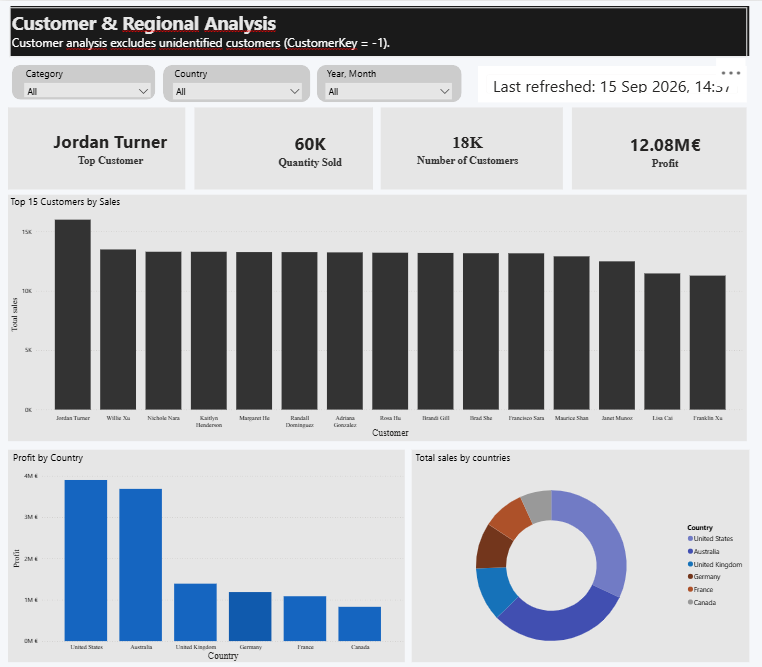

The page's visual inventory and layout, read from the dashboard file:
{"tool":"powerbi","page":{"name":"Customer Analysis","canvas":[1550,1350],"ordinal":2},"visuals":[{"type":"shape","box":[765,212.5,365,165],"z":0},{"type":"cardVisual","fields":{"Data":["measure.Last Refreshed"]},"box":[960,130,537.5,72.5],"z":1000},{"type":"shape","box":[330,127.5,295,75],"z":2000},{"type":"shape","box":[637.5,127.5,290,75],"z":3000},{"type":"shape","box":[20,212.5,355,165],"z":4000},{"type":"shape","box":[827.5,897.5,675,425],"z":5000},{"type":"card","fields":{"Values":["measure.Top Customer"]},"box":[57.5,230,335,127.5],"z":6000},{"type":"shape","box":[20,387.5,1477.5,492.5],"z":7000},{"type":"shape","box":[20,897.5,793.8,425.2],"z":8000},{"type":"lineStackedColumnComboChart","title":"Profit by Country","fields":{"Category":["SalesTerritory.Country"],"Y":["measure.Profit"]},"box":[25,900,792.5,425],"z":9000},{"type":"donutChart","title":"Total sales by countries","fields":{"Y":["measure.Total sales"],"Category":["SalesTerritory.Country"]},"box":[830,900,672.5,422.5],"z":10000},{"type":"columnChart","title":"Top 15 Customers by Sales","fields":{"Category":["Customer.Customer"],"Y":["measure.Total sales"]},"box":[20,387.5,1477.5,492.5],"z":11000},{"type":"shape","box":[392.5,212.5,357.5,165],"z":12000},{"type":"shape","box":[1147.5,212.5,350,165],"z":13000},{"type":"card","fields":{"Values":["measure.Quantity Sold"]},"box":[467.5,232.5,314,130],"z":14000},{"type":"card","fields":{"Values":["measure.Profit"]},"box":[1195,235,278.6,127.8],"z":15000},{"type":"shape","box":[25,10,1477.5,100],"z":16000},{"type":"slicer","fields":{"Values":["Date.Date.Variation.Date Hierarchy.Year","Date.Date.Variation.Date Hierarchy.Month"]},"box":[645,127.5,272.5,80],"z":17000},{"type":"textbox","box":[22.5,12.5,1475,100],"z":18000},{"type":"shape","box":[27.5,127.5,287.5,70],"z":19000},{"type":"slicer","fields":{"Values":["SalesTerritory.Country"]},"box":[340,127.5,277.5,80],"z":20000},{"type":"slicer","fields":{"Values":["Product.Category"]},"box":[42.5,127.5,272.5,65],"z":21000},{"type":"card","fields":{"Values":["measure.Number of Customers"]},"box":[817.5,230,243.6,126.9],"z":22000}]}

Visuals, with their boxes in screenshot pixels (x1, y1, x2, y2), scaled from the page's 1550x1350 canvas onto the 762x667 screenshot:
shape: box=[376, 105, 556, 187]
cardVisual - measure.Last Refreshed: box=[472, 64, 736, 100]
shape: box=[162, 63, 307, 100]
shape: box=[313, 63, 456, 100]
shape: box=[10, 105, 184, 187]
shape: box=[407, 443, 739, 653]
card - measure.Top Customer: box=[28, 114, 193, 177]
shape: box=[10, 191, 736, 435]
shape: box=[10, 443, 400, 654]
"Profit by Country" lineStackedColumnComboChart: box=[12, 445, 402, 655]
"Total sales by countries" donutChart: box=[408, 445, 739, 653]
"Top 15 Customers by Sales" columnChart: box=[10, 191, 736, 435]
shape: box=[193, 105, 369, 187]
shape: box=[564, 105, 736, 187]
card - measure.Quantity Sold: box=[230, 115, 384, 179]
card - measure.Profit: box=[587, 116, 724, 179]
shape: box=[12, 5, 739, 54]
slicer - Date.Date.Variation.Date Hierarchy.Year x Date.Date.Variation.Date Hierarchy.Month: box=[317, 63, 451, 103]
textbox: box=[11, 6, 736, 56]
shape: box=[14, 63, 155, 98]
slicer - SalesTerritory.Country: box=[167, 63, 304, 103]
slicer - Product.Category: box=[21, 63, 155, 95]
card - measure.Number of Customers: box=[402, 114, 522, 176]
